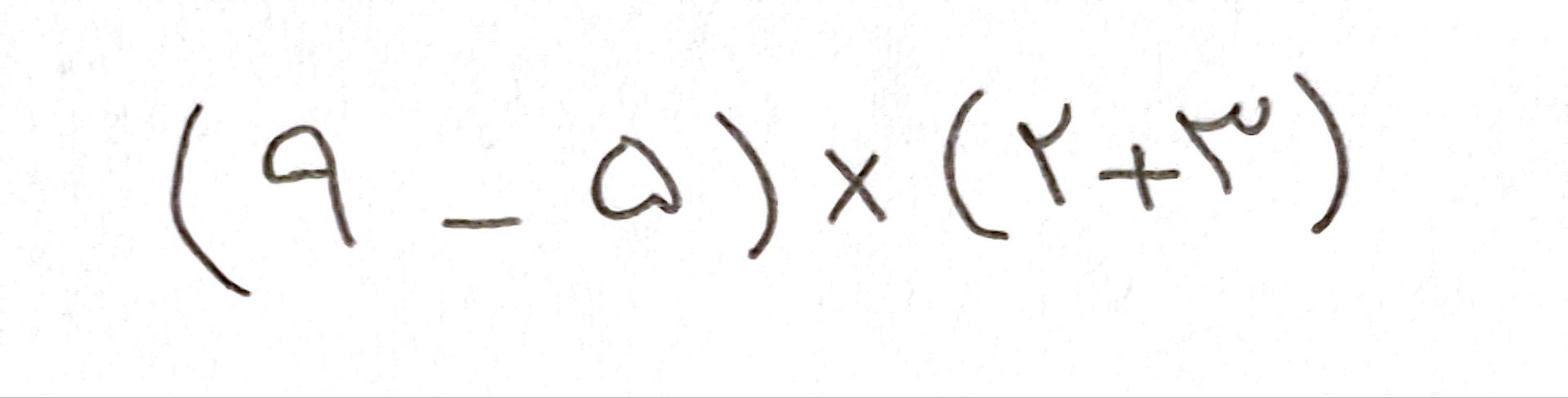character: (167, 102, 254, 294), (261, 125, 358, 250), (943, 87, 1009, 240), (1294, 70, 1351, 233), (715, 107, 774, 261), (1176, 96, 1265, 195), (587, 134, 682, 221), (1017, 100, 1073, 209), (1099, 142, 1178, 210), (826, 146, 889, 224), (443, 216, 521, 230)
